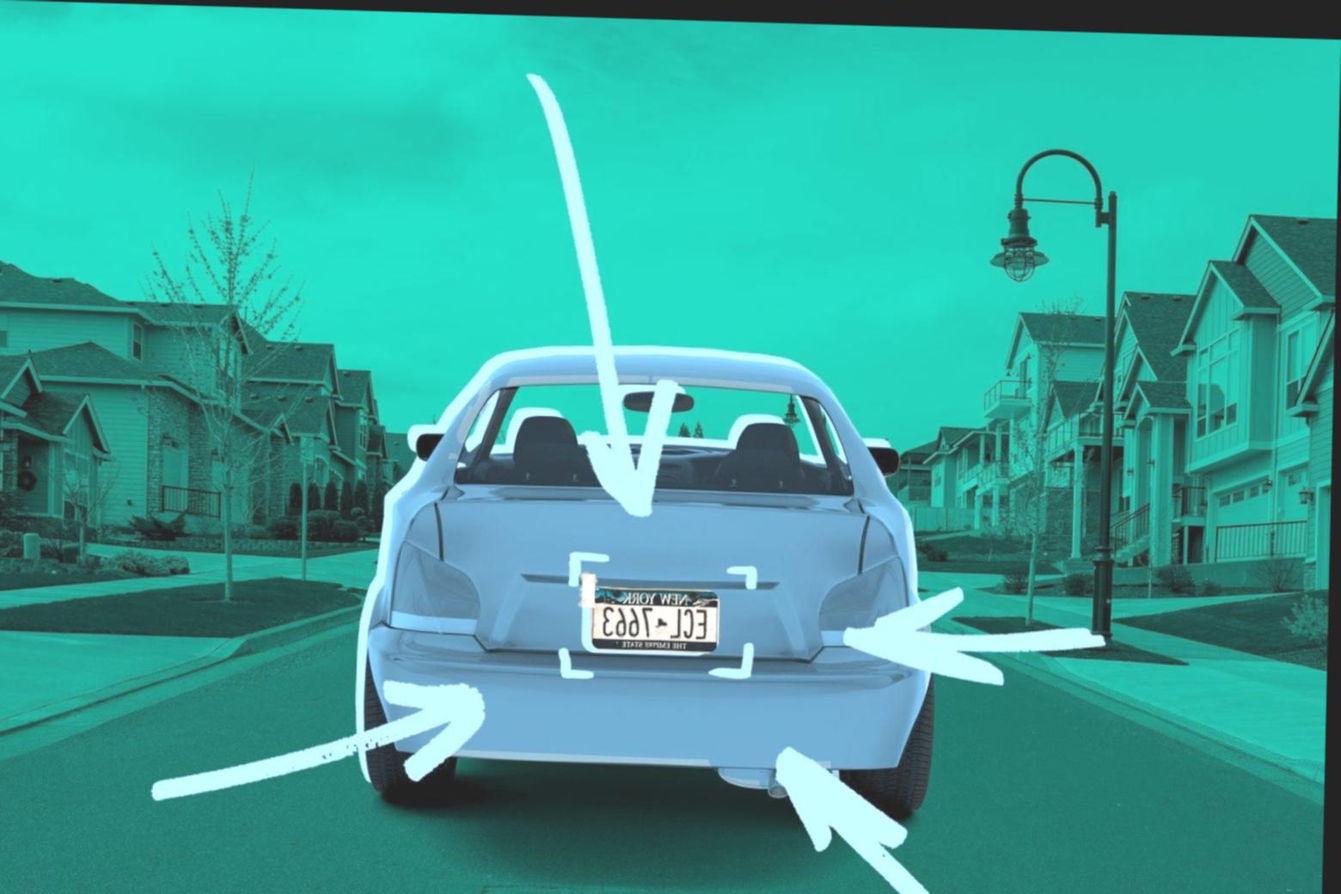License_Plate: (586, 594, 720, 642)
